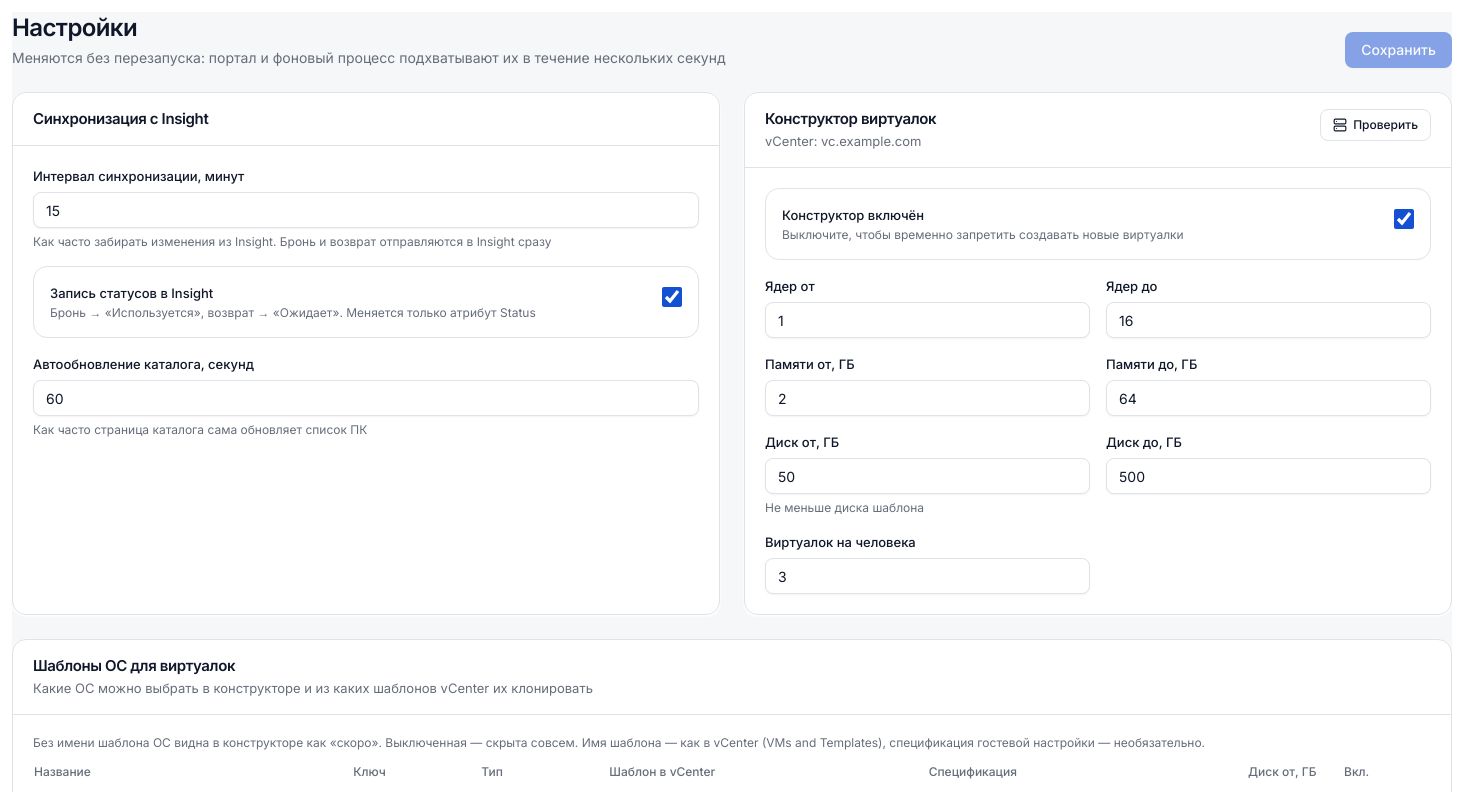
Scenario: SettingsPage: проверка vCenter › успех: POST /admin/vsphere/check и сводка по найденному
Check: the text "vCenter: vc.example.com" is shown, box [765,131,936,151]
Click the button "Проверить": (1376, 125) [1320,109,1431,141]
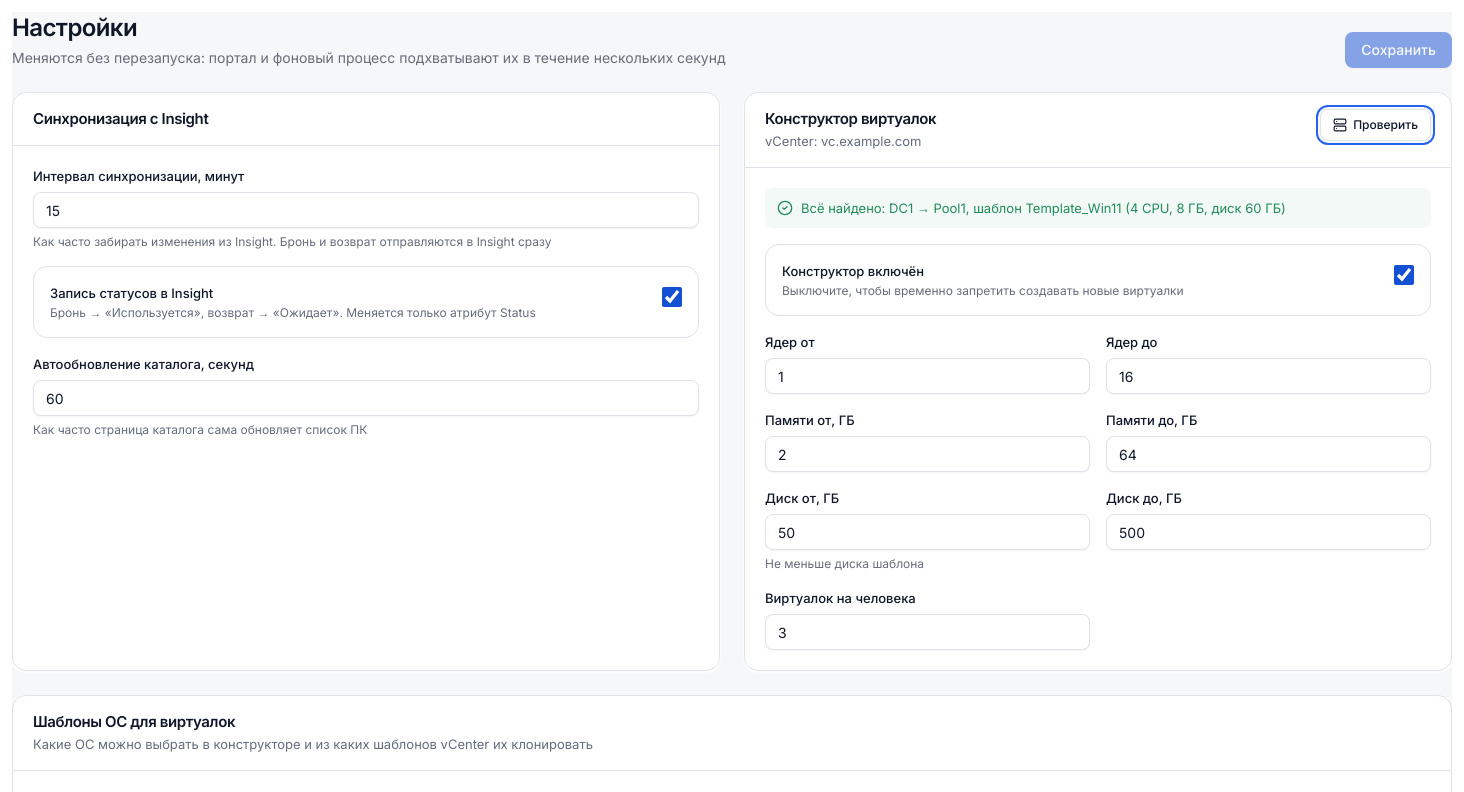
Check: the text "Всё найдено: DC1 → Pool1, шаблон Template_Win11 (4 CPU, 8 ГБ, диск 60 ГБ)" is shown, box [777,200,1286,216]
